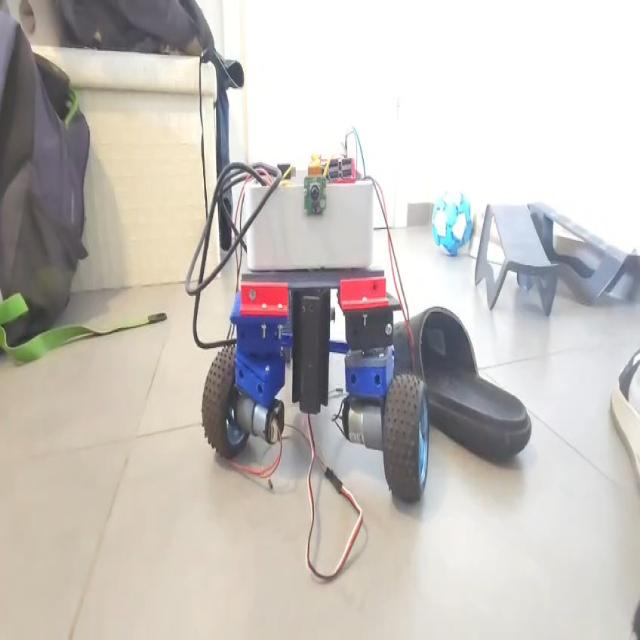Robot: (202, 123, 432, 504)
